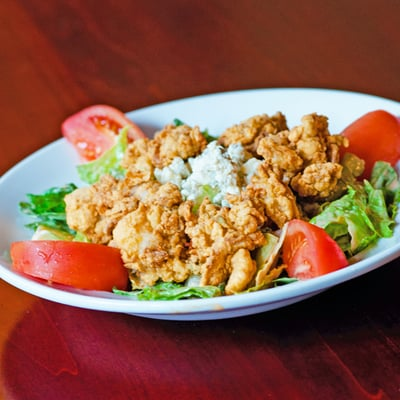sushi: (2, 75, 400, 325)
